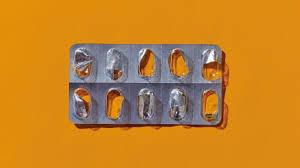pill_Strip: (69, 44, 221, 124)
